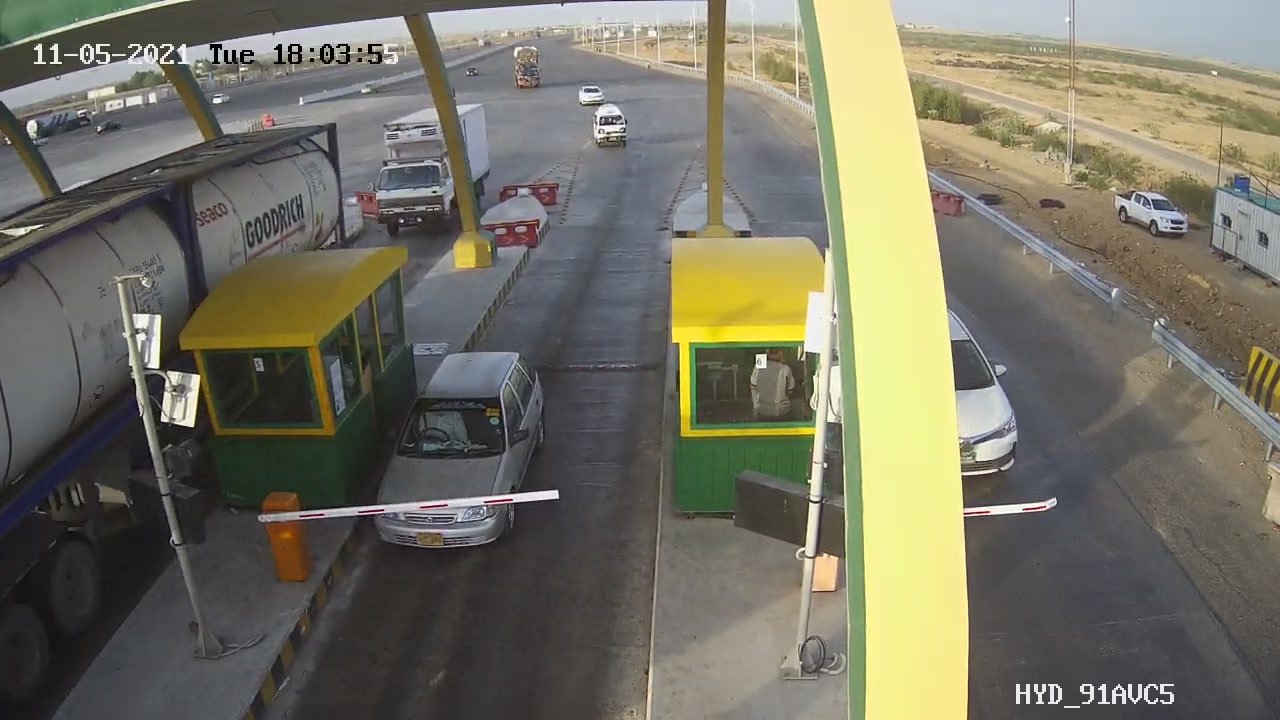F1: (351, 335, 573, 577)
